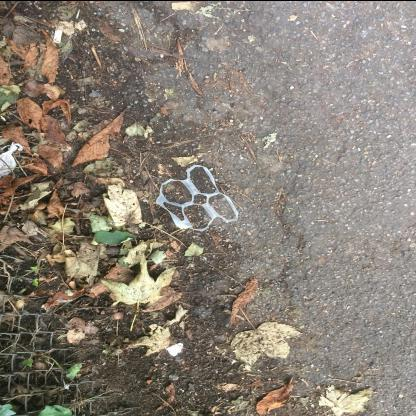plastik: (157, 164, 241, 232)
